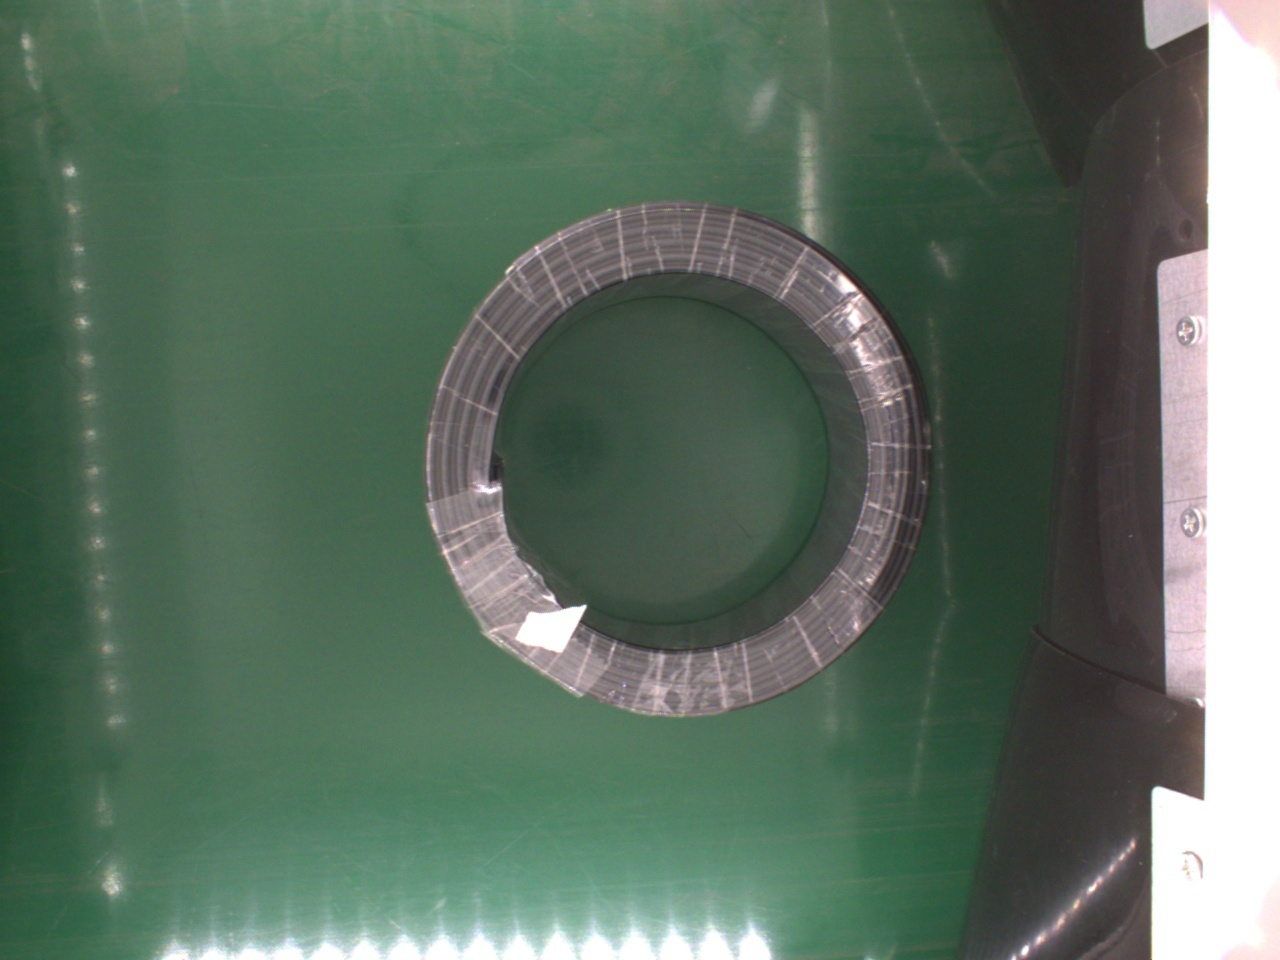black: (424, 205, 933, 714)
